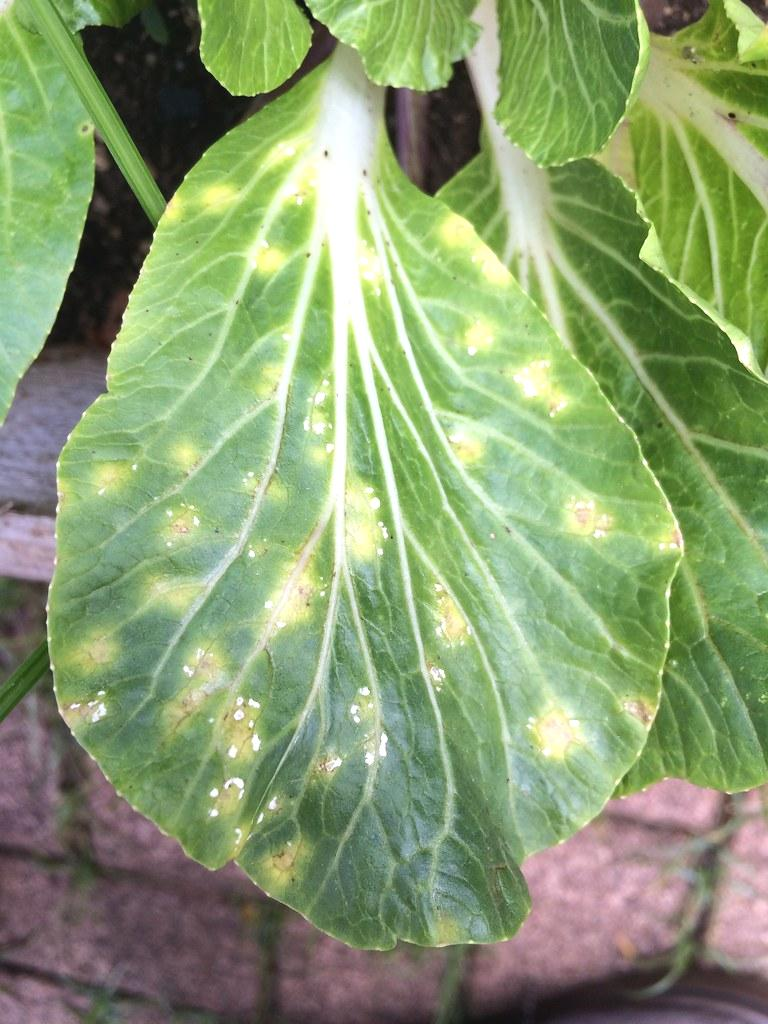Bok-Choy-Diseased: (68, 50, 680, 951)
